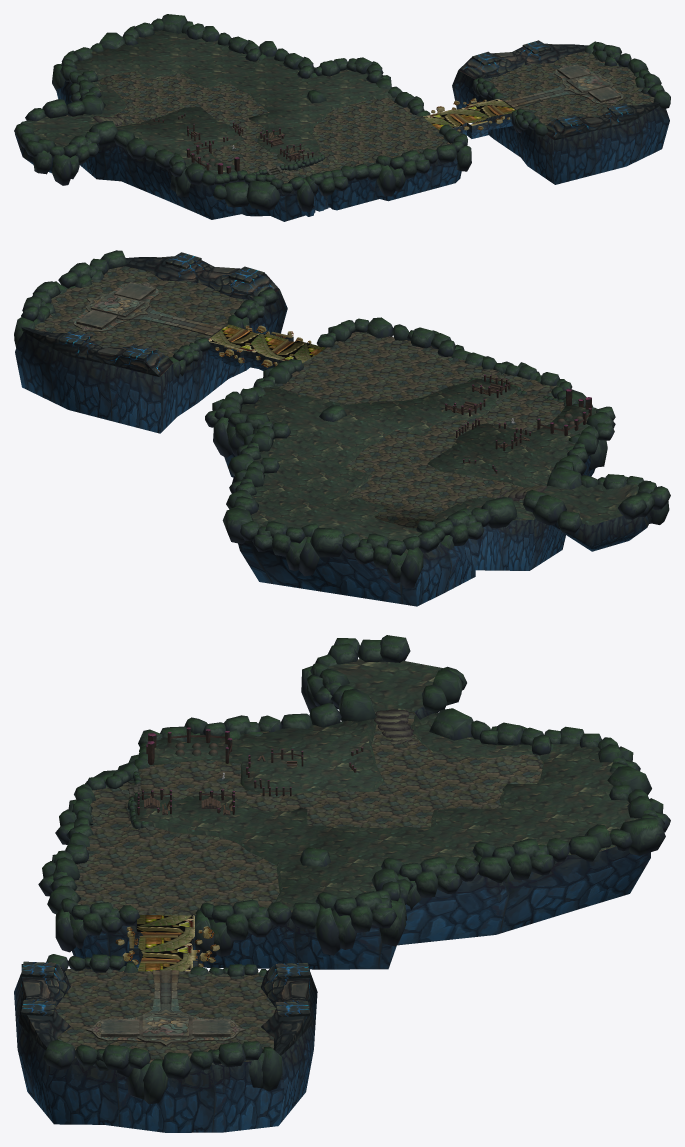
Rendered from thebot_door_1.FBX.
The picture shows the model from 3 angles, top to bottom: view 1: azimuth 30°, elevation 25°; view 2: azimuth 150°, elevation 25°; view 3: azimuth 270°, elevation 25°; orthographic projection. The views are drawn at different scales.
Parts seen in each view (by area): view 1: Object01, Box28, shitou01, huawen, Object03, Object18; view 2: Object01, Box28, shitou01, huawen, Object03; view 3: Object01, Box28, huawen, shitou01, Object03, shitou02.
Boxes of the visible parts, x1=… form: Object01: x1=15, y1=30, x2=669, y2=221; Box28: x1=14, y1=14, x2=670, y2=211; shitou01: x1=194, y1=40, x2=660, y2=168; huawen: x1=153, y1=64, x2=623, y2=174; Object03: x1=423, y1=99, x2=515, y2=138; Object18: x1=252, y1=152, x2=325, y2=175; Object01: x1=15, y1=266, x2=652, y2=606; Box28: x1=14, y1=250, x2=670, y2=588; shitou01: x1=21, y1=252, x2=582, y2=431; huawen: x1=73, y1=282, x2=591, y2=473; Object03: x1=207, y1=324, x2=326, y2=370; Object01: x1=14, y1=659, x2=650, y2=1132; Box28: x1=38, y1=635, x2=670, y2=1104; huawen: x1=85, y1=727, x2=363, y2=1046; shitou01: x1=19, y1=743, x2=312, y2=1055; Object03: x1=129, y1=915, x2=201, y2=971; shitou02: x1=374, y1=709, x2=417, y2=745.
Bounding box in the file's own units: 4007 × 2712 × 465.
